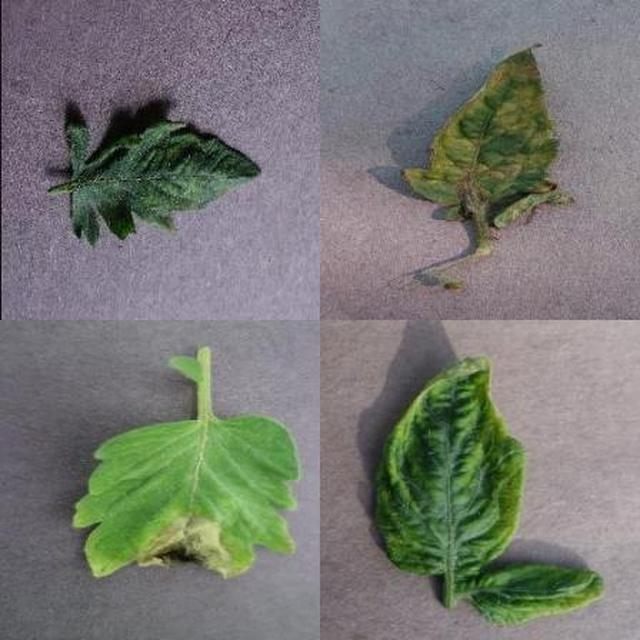Mosaic Virus Leaf: (190, 94, 640, 640)
